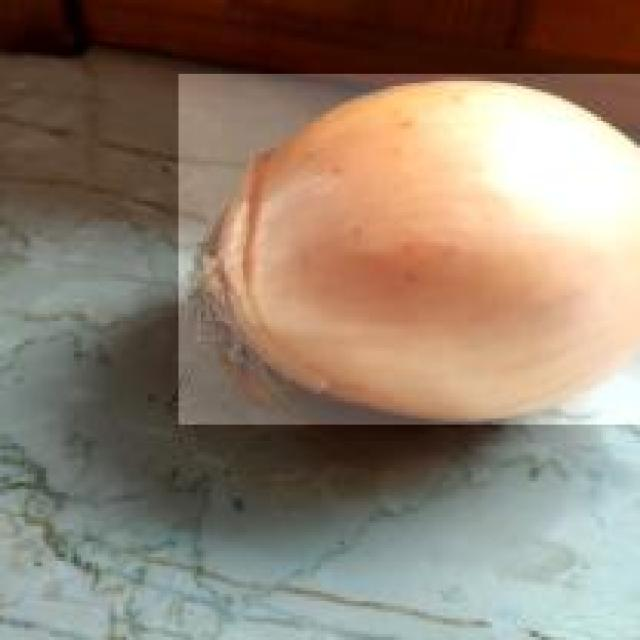onion: (178, 74, 640, 428)
